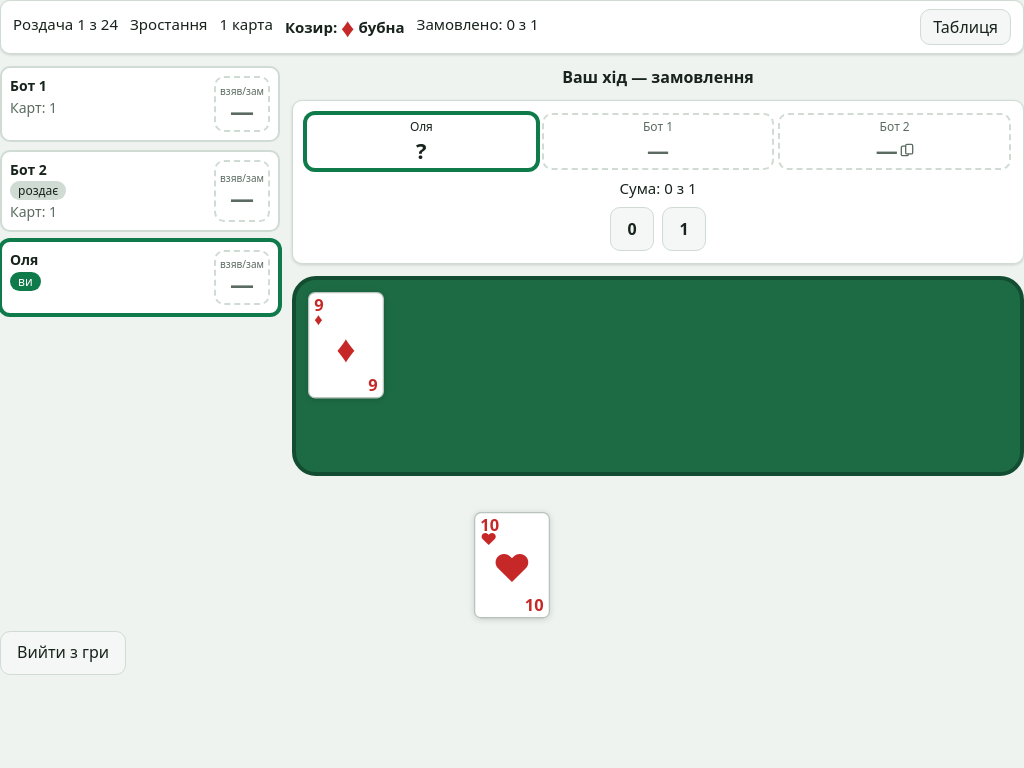
Test: опції кімнати на ігровому столі (§10) › R-10.1: ввімкнені опції видно в таблиці гри, а не на самому столі
Check: the text "Опції гри" is not shown
Click the button "Таблиця": (966, 27) [920,9,1011,45]
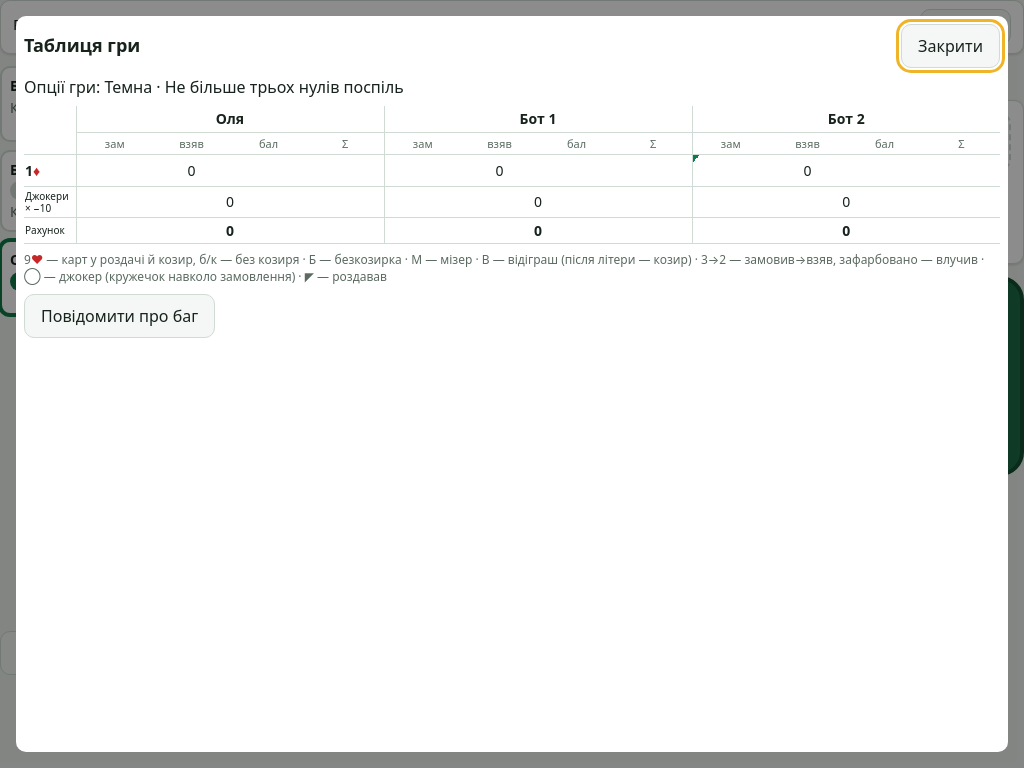
Check: the list items read "Темна", "Не більше трьох нулів поспіль", in this order, box [104,76,152,98]; [156,76,404,98]
